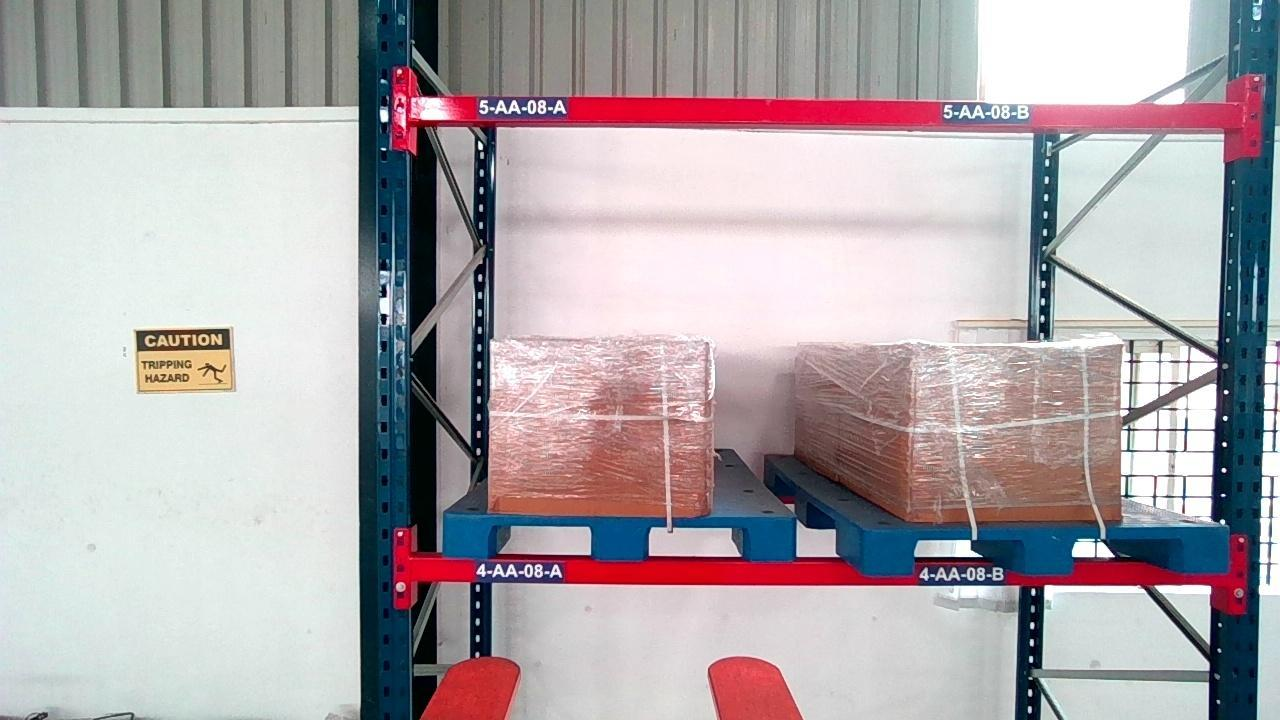h_rack: (415, 96, 1244, 129), (412, 558, 1228, 585)
small_pallet: (864, 526, 1231, 572), (445, 515, 794, 560)
